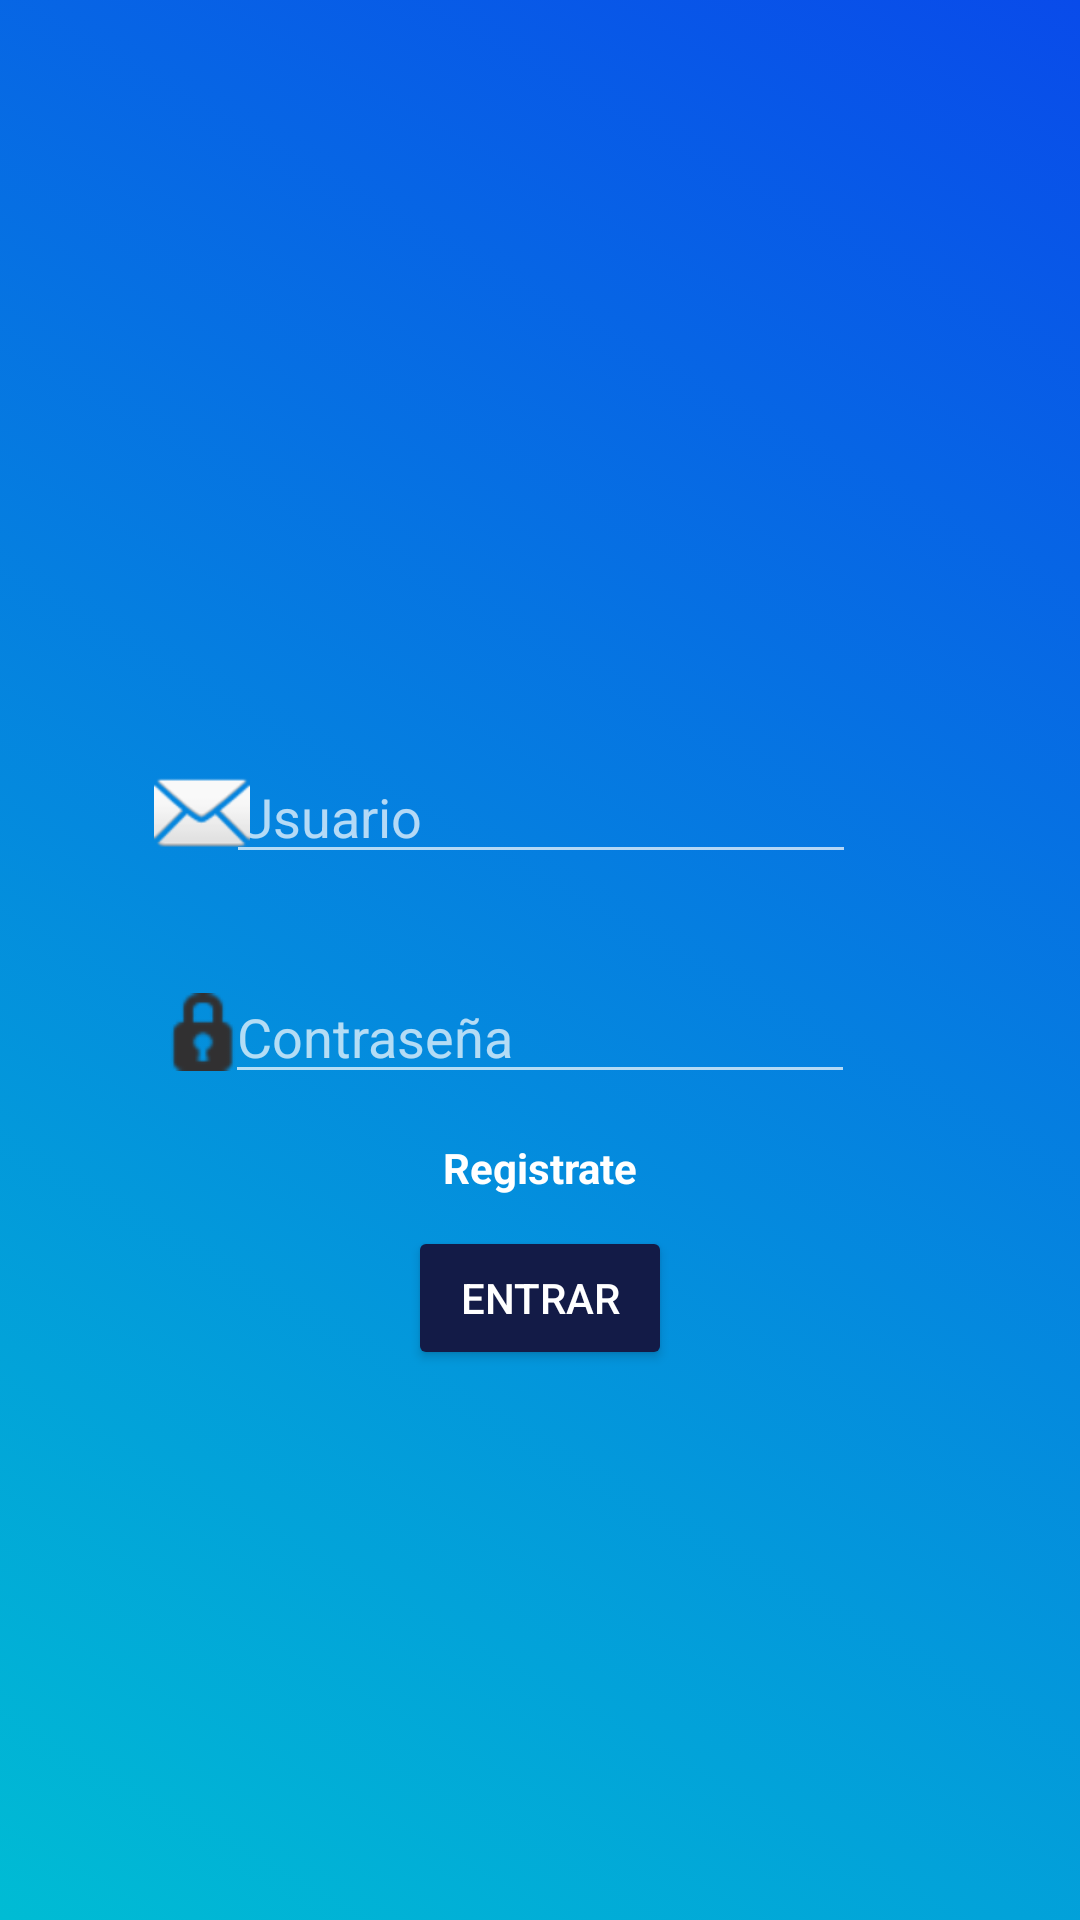

Named icons in this screenshot (1080 x 1920) and their bounding boxes, (x1, y1, x2, y2):
Candado: (172, 993, 233, 1071)
email: (154, 779, 250, 850)
